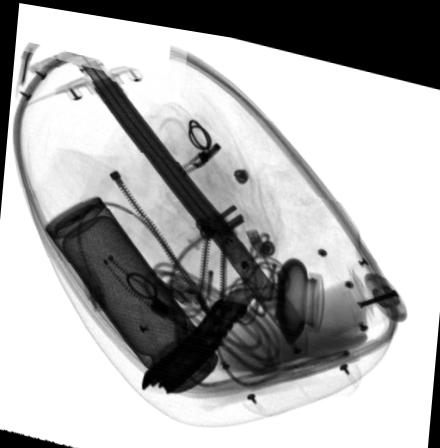Knife: (141, 257, 264, 388)
